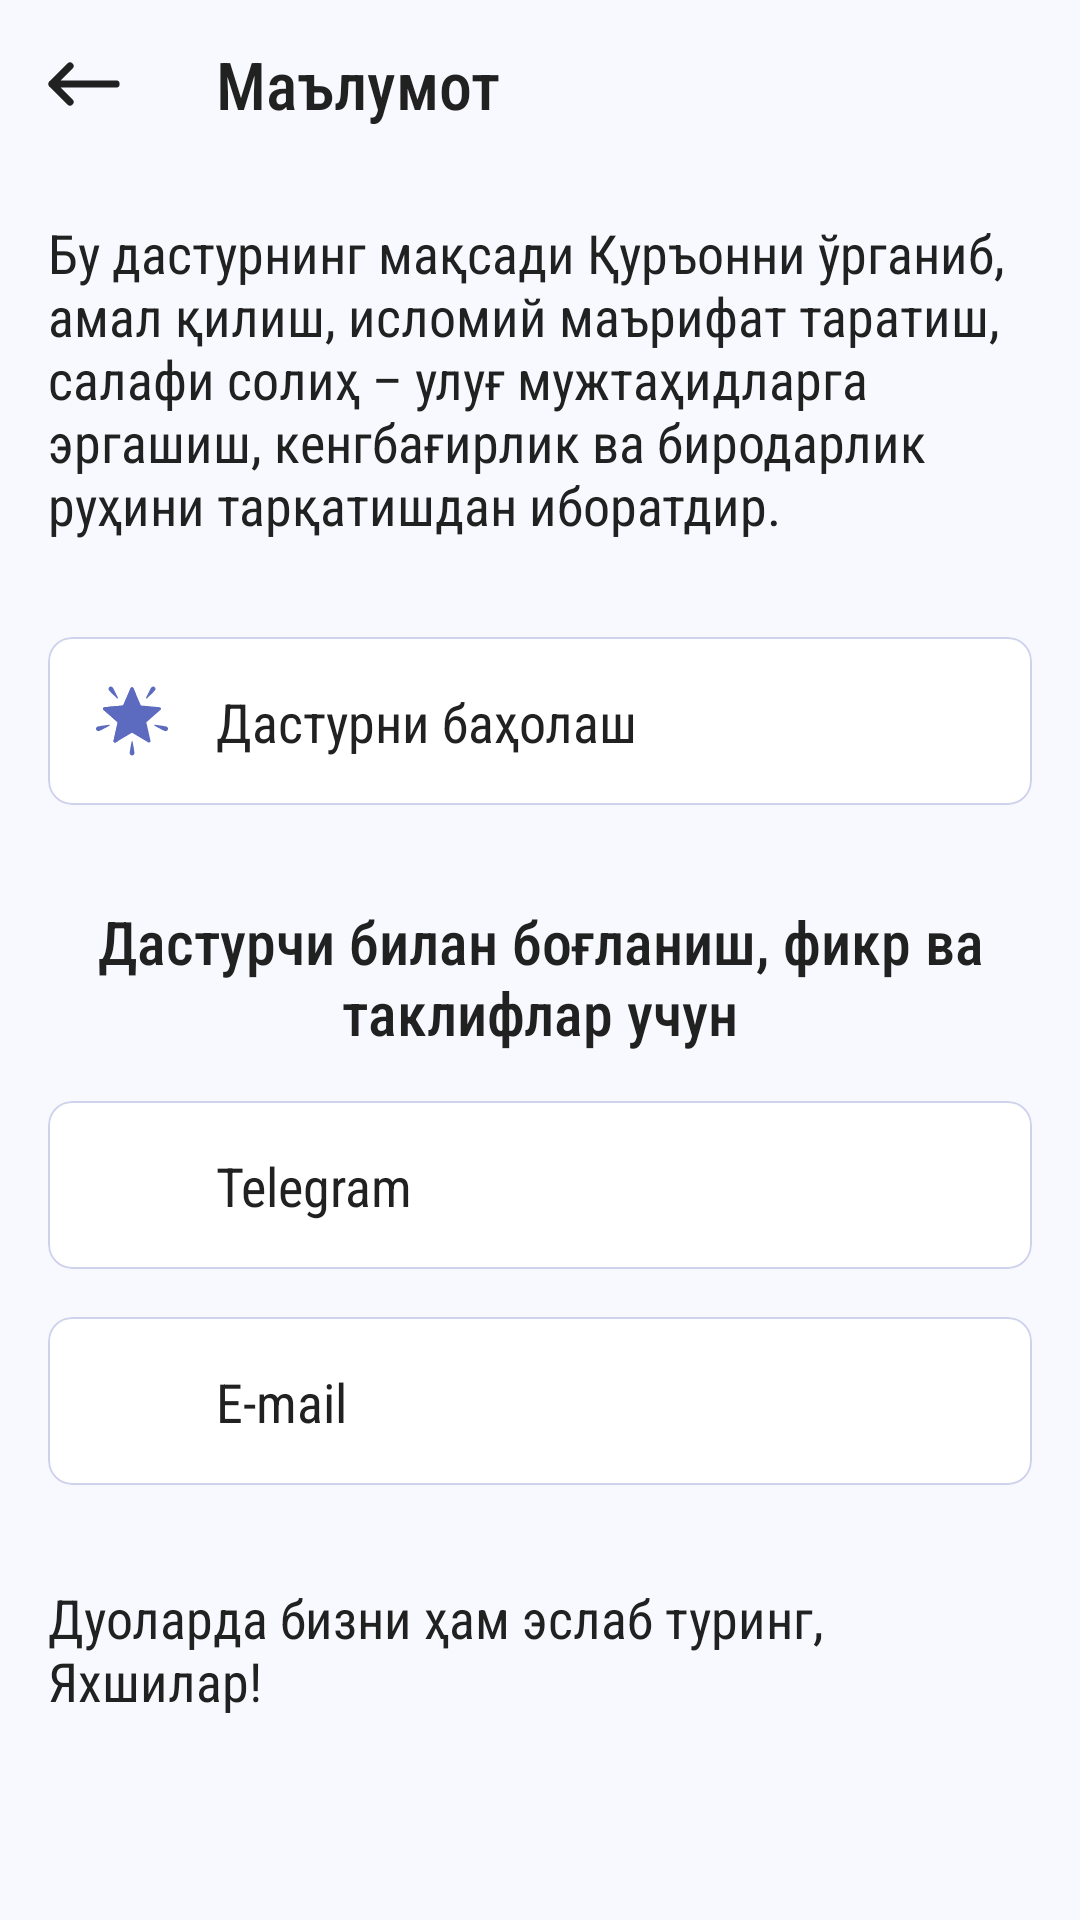

Icons on this 1080px x 1920px Android screen, each with its box as rect(x1, y1, x2, y2):
back: rect(48, 62, 120, 106)
rate us: rect(96, 686, 168, 756)
